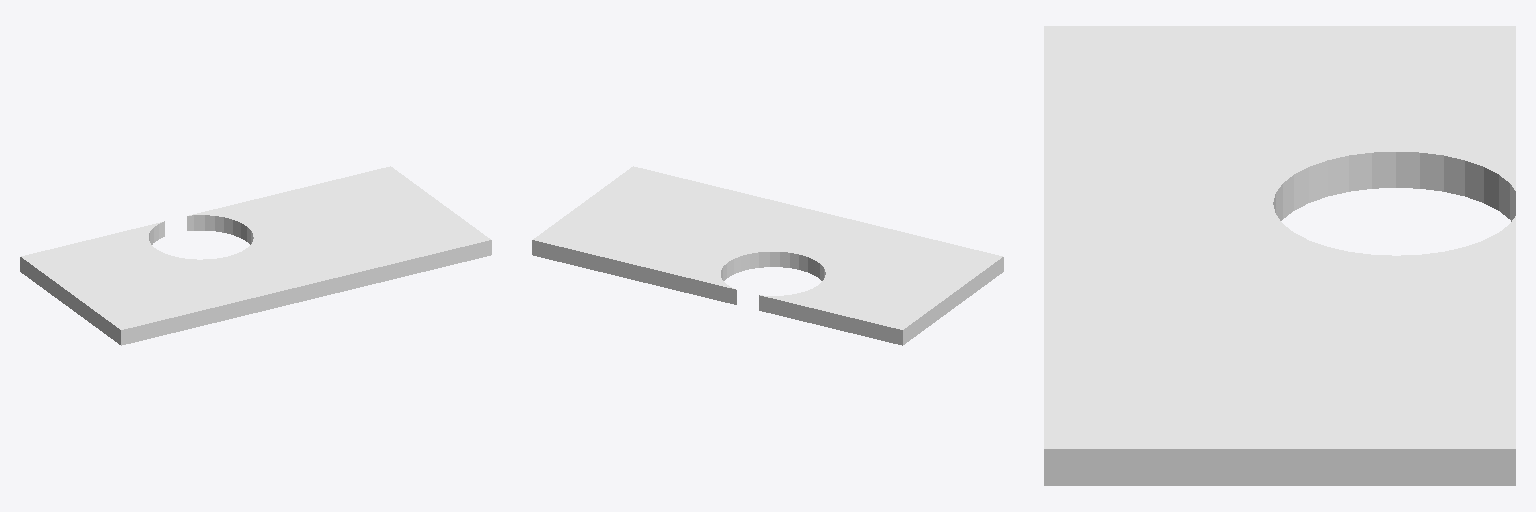
URDF robot description (chair):
<robot name="chair">
  <link name="base_link">
    <visual>
      <origin xyz="0 0 0" rpy="0 0 0" />
      <geometry>
        <mesh filename="package://hpp_environments/meshes/multicontact/ground_with_cylinder.stl"/>
      </geometry>
      <material name="white">
        <color rgba="1 1 1 1"/>
      </material>
    </visual>
    <collision>
      <origin xyz="0 0 0" rpy="0 0 0" />
      <geometry>
        <mesh filename="package://hpp_environments/meshes/multicontact/ground_with_cylinder.stl"/>
      </geometry>
    </collision>
  </link>
</robot>

--- Render facts (derived) ---
The picture shows the robot from 3 angles, left to right: view 1: azimuth 30°, elevation 25°; view 2: azimuth 150°, elevation 25°; view 3: azimuth 270°, elevation 25°; orthographic projection.
Model chair with 1 links and 0 joints (none), rooted at base_link, posed every joint at zero.
Visible links, largest first — view 1: base_link; view 2: base_link; view 3: base_link.
Boxes of the visible links, box(x1,y1,x2,y2) form: base_link: box(20, 166, 491, 345); base_link: box(532, 166, 1003, 345); base_link: box(1044, 26, 1515, 485).
Size in the robot's own frame: 12.51 by 5.89 by 0.5 metres.
Meshes: 1 distinct files referenced, 1 mesh visuals loaded (1 binary STL).